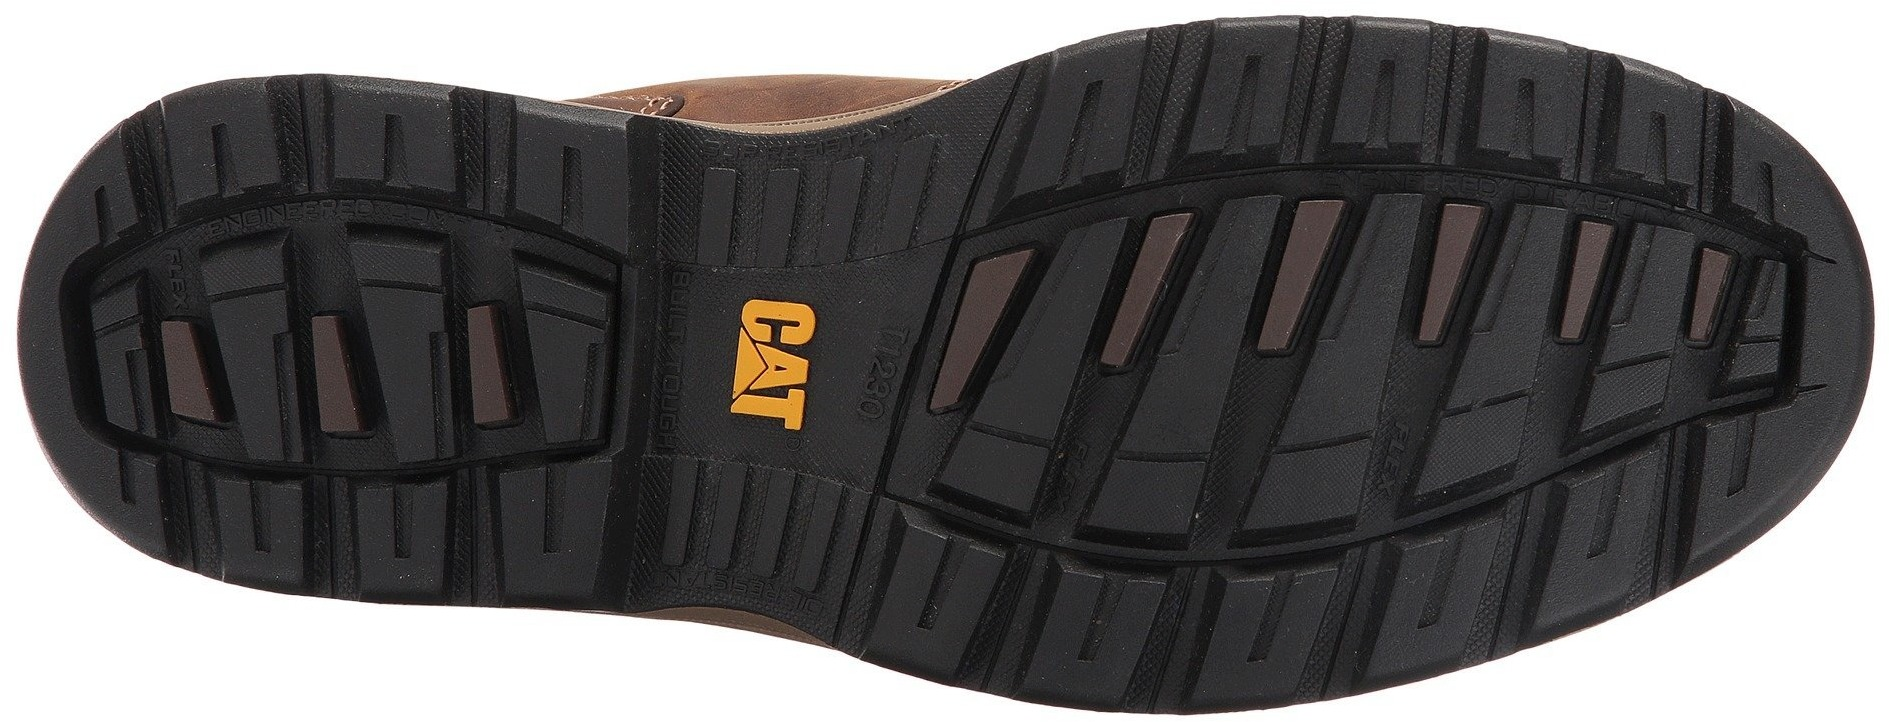exclude: (626, 605, 838, 722)
quad: (1085, 66, 1669, 603), (137, 124, 598, 573), (898, 210, 1234, 509), (694, 133, 873, 294), (698, 450, 855, 598)
text: (702, 293, 847, 435)
